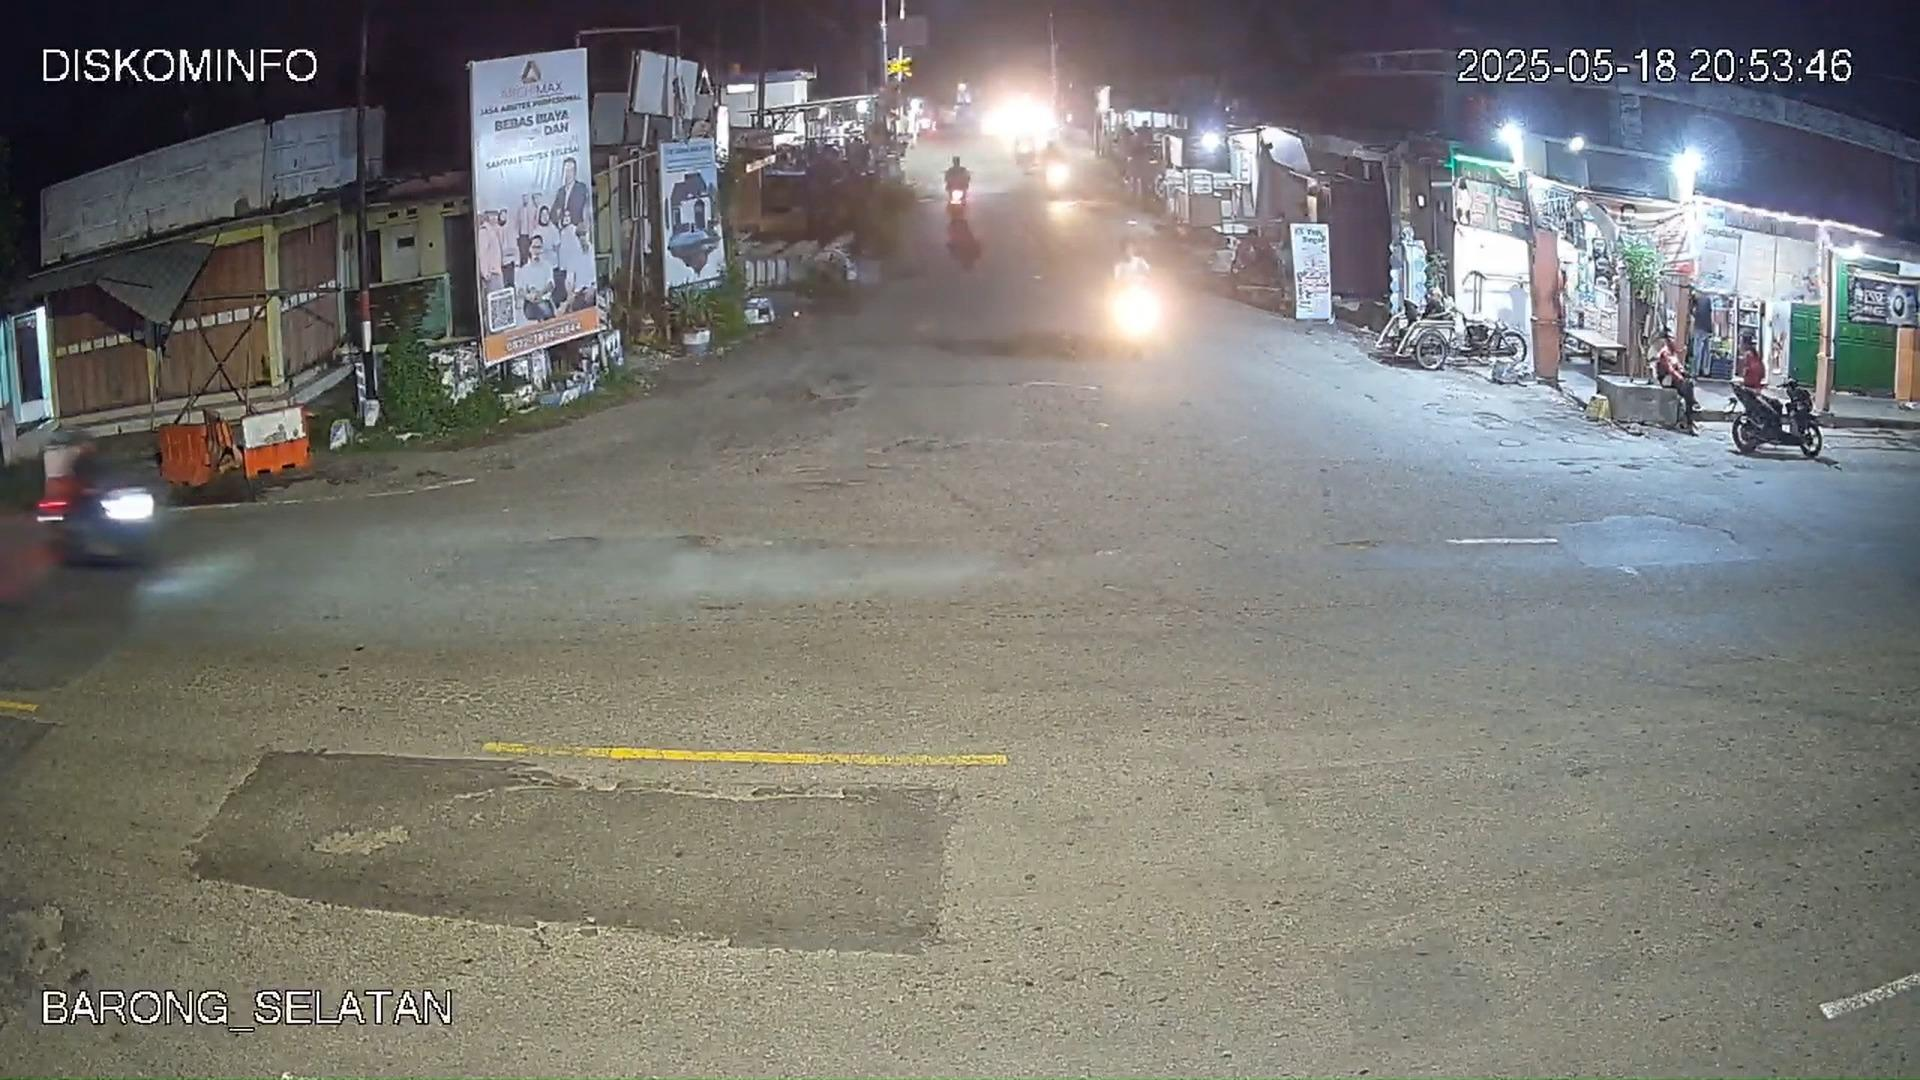Motor: (37, 446, 161, 566), (1729, 371, 1825, 458)
